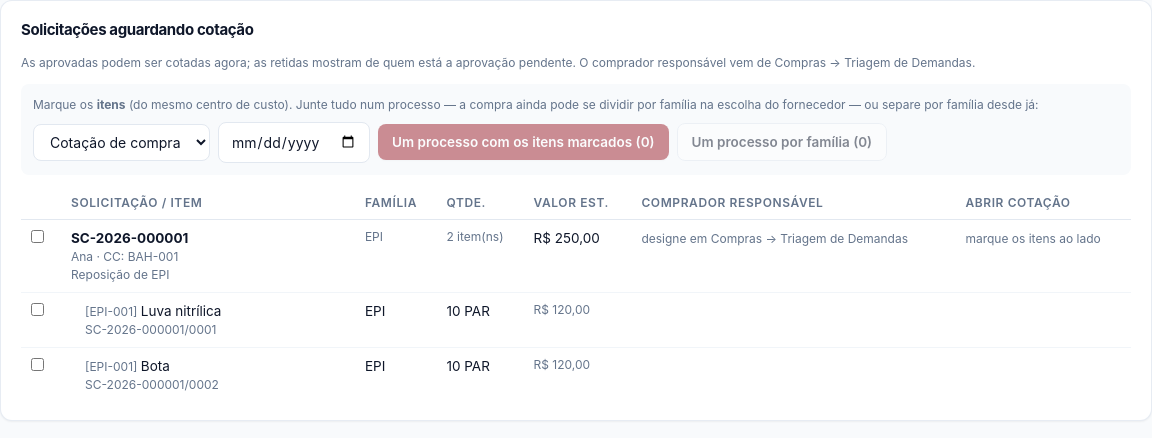
Test: tela Abrir Cotação › o cabeçalho da SC marca e desmarca todos os itens dela
Click the checkbox named "Marcar todos os itens de SC-2026-000001": (38, 236) left=31, top=230, right=44, bottom=242
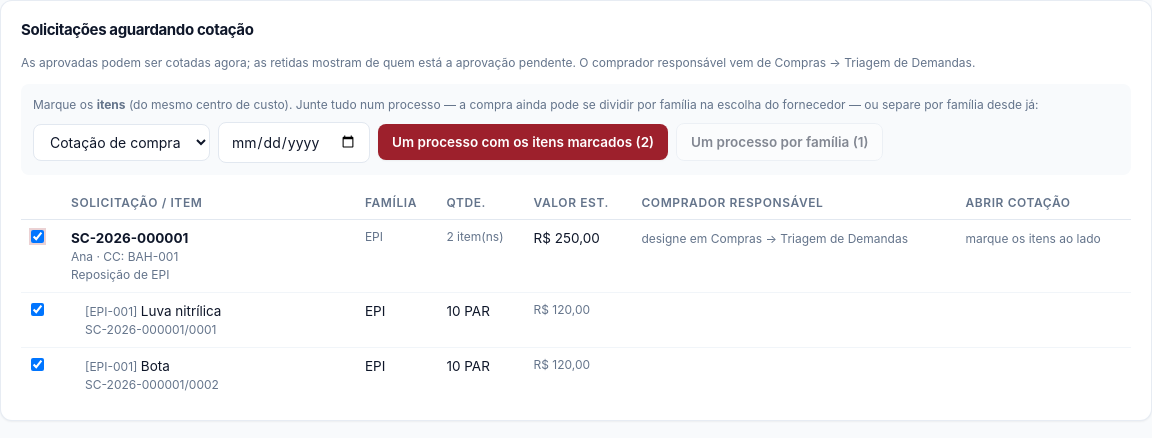
Result: the button "Um processo com os itens marcados (2)" is enabled at left=378, top=124, right=668, bottom=160
Click the checkbox named "Marcar todos os itens de SC-2026-000001": (38, 236) left=31, top=230, right=44, bottom=242
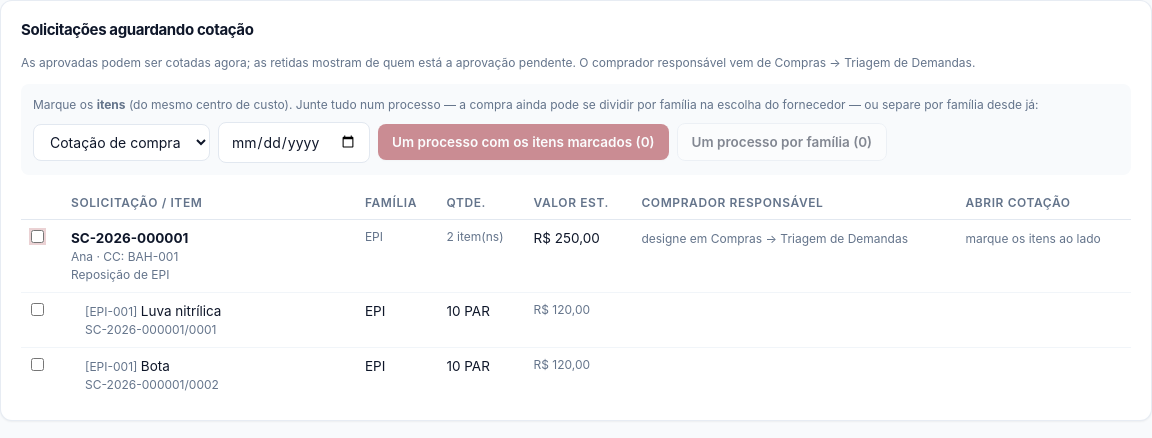
Result: the button "Um processo com os itens marcados (0)" is disabled at left=378, top=124, right=669, bottom=160
